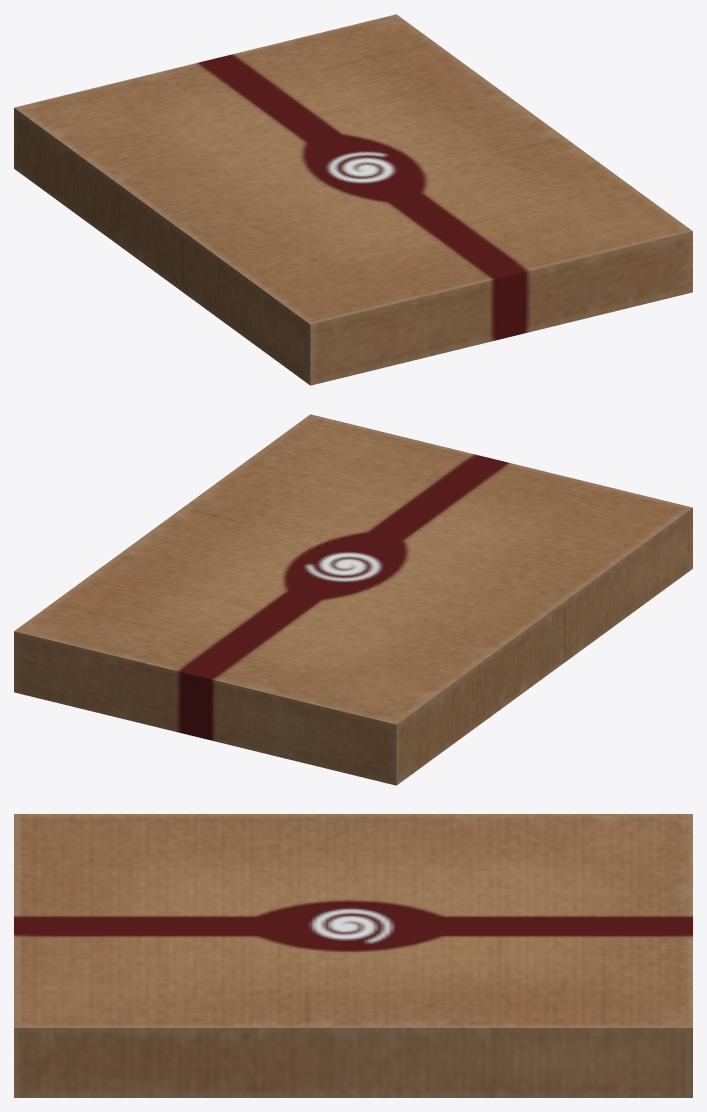
Rendered from BoxPortableCap_C.fbx.
The picture shows the model from 3 angles, top to bottom: view 1: azimuth 30°, elevation 25°; view 2: azimuth 150°, elevation 25°; view 3: azimuth 270°, elevation 25°; orthographic projection. The views are drawn at different scales.
Parts seen in each view (by area): view 1: PortableBoxCap_C; view 2: PortableBoxCap_C; view 3: PortableBoxCap_C.
Part boxes in pixels (x1=…): PortableBoxCap_C: x1=14, y1=14, x2=692, y2=385; PortableBoxCap_C: x1=14, y1=414, x2=692, y2=785; PortableBoxCap_C: x1=14, y1=814, x2=692, y2=1097.
Size of the model in its own units: 29.5 by 4.5 by 39.6.
